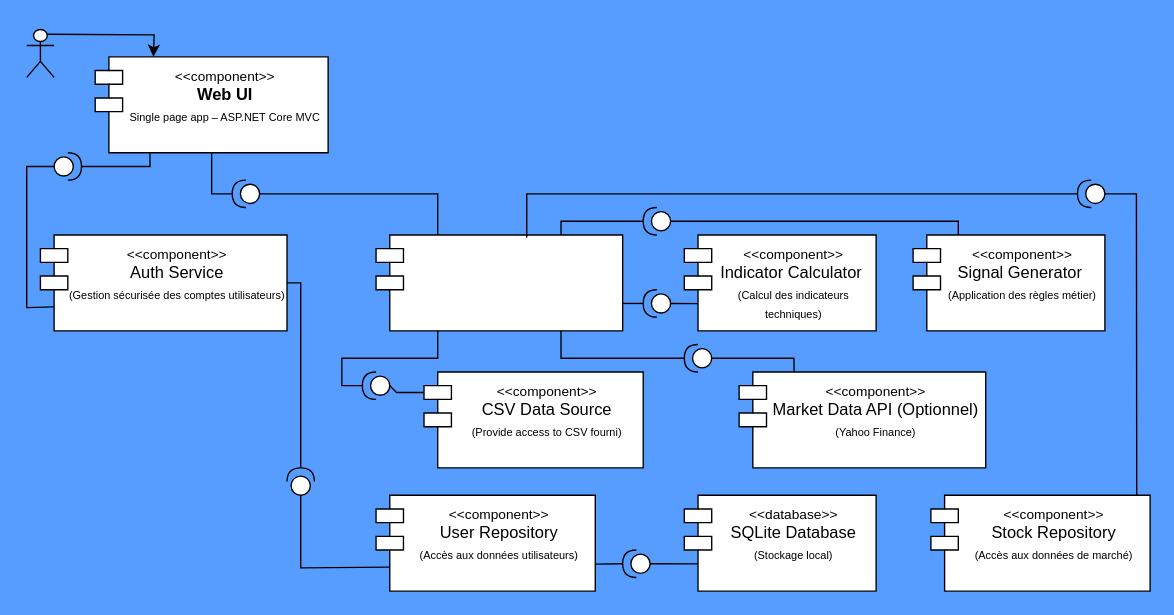
The diagram is 1174 pixels wide and 615 high, and some of its shapes have lost their labels. The shapes that lost their labels are listed below. From the top down, each one's centre as x and y in pixels, then its label:
At point (39, 52): "User".
At point (499, 282): "<<component>> Stock Analysis Service (Gestion de l’analyse technique)".
